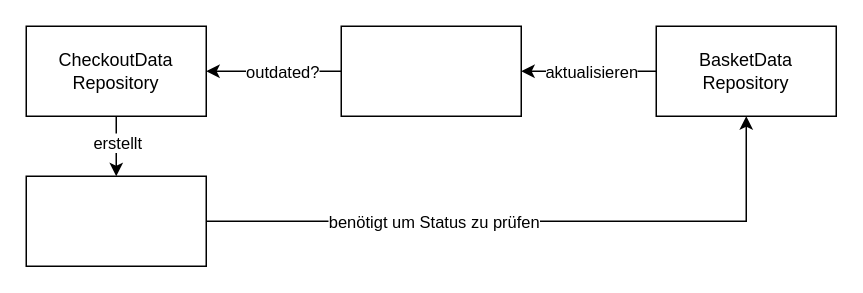
The diagram is 863 pixels wide and 293 high, and some of its shapes have lost their labels. Here are the shapes that lost their labels. From the top down, the centre of each, then its label:
At point 430,70: "BasketData RefreshService".
At point 115,220: "CheckoutData".
